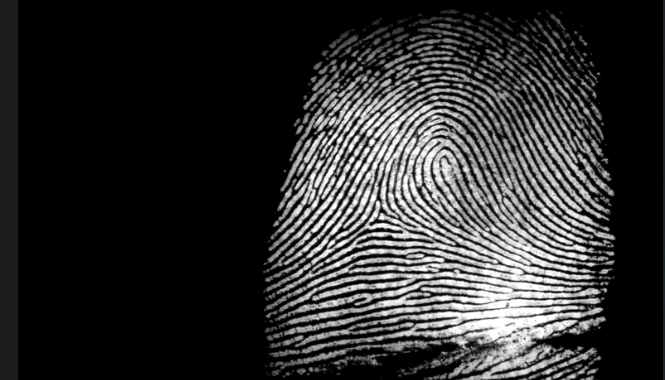deltas: (362, 183, 408, 239)
nucleo: (420, 135, 477, 194)
